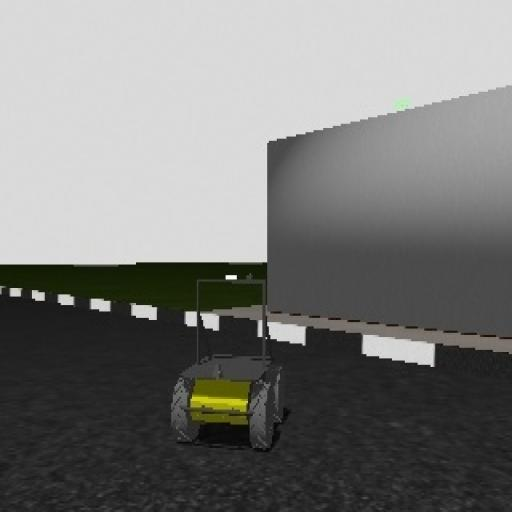huskya200: (148, 255, 288, 463)
